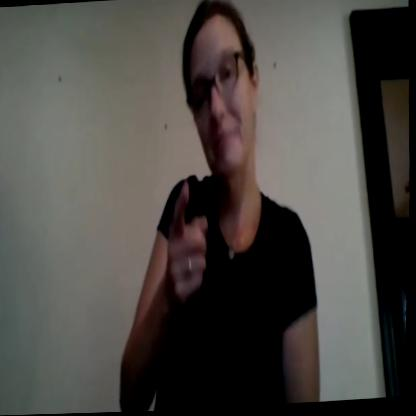HowAreYou: (163, 169, 227, 318)
